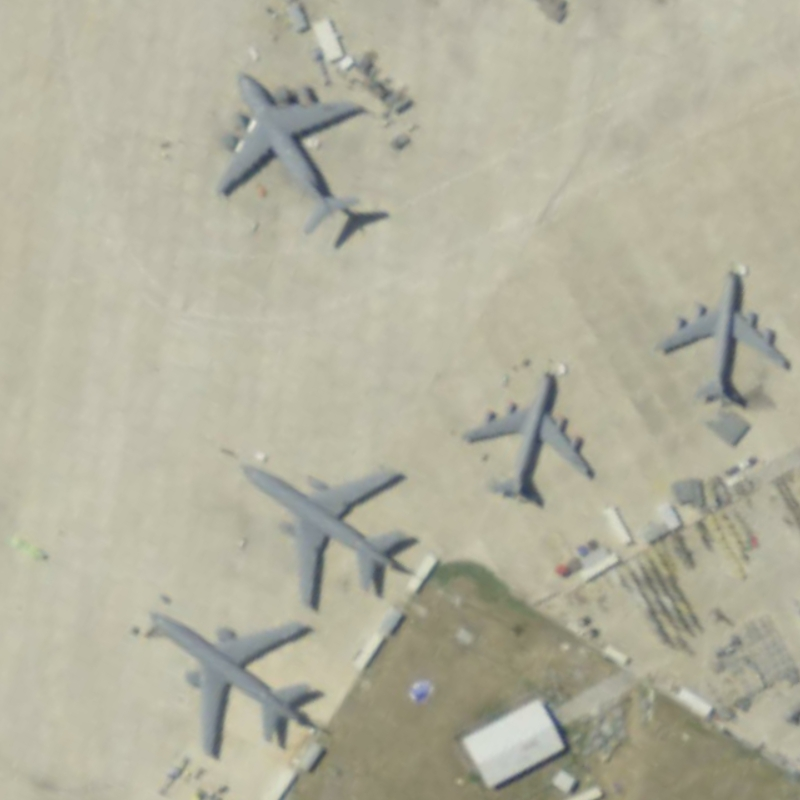A14: (653, 265, 797, 418), (454, 361, 603, 505)
A18: (233, 451, 426, 616), (143, 601, 331, 762)
A3: (204, 58, 373, 240)
